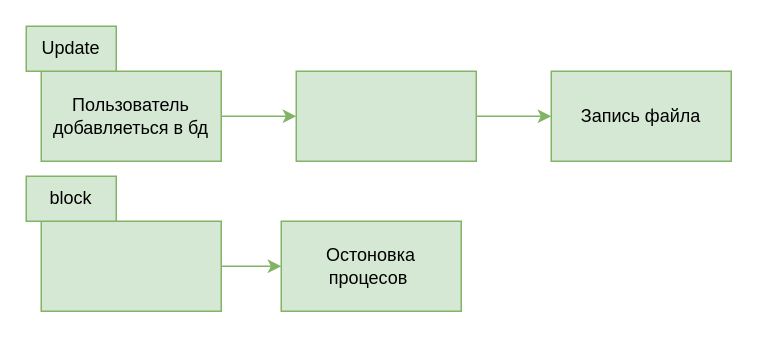
This 758x338 diagram has some shape labels left out. The centre of each missing label's shape, as x and y in pixels:
Из бд валидные пользователи добавляються во файл: (385,115)
Очистка файла: (130,265)
